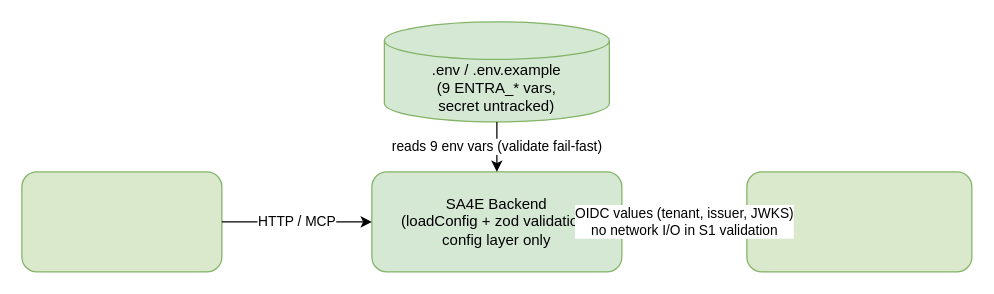
Image size: 994x294. Some labels were removed from this diagram. The shapes that lost their labels are listed below. From the top down, each one's centre as x and y in pixels, then its label:
(121,221): VS Code / Kiro Extension
(859,221): Microsoft Entra ID (tenant / issuer / JWKS values — S1 contract only)
